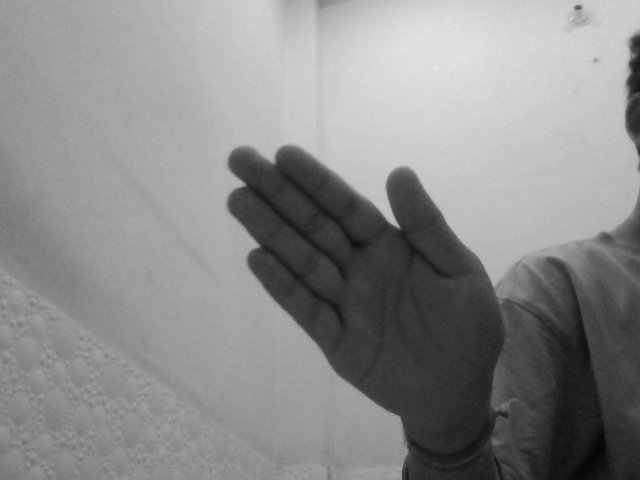Hello: (225, 138, 513, 427)
